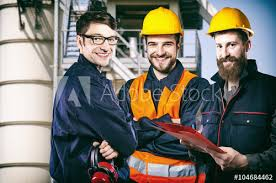Person_wearing_helmet: (206, 4, 253, 49), (139, 7, 181, 48)
